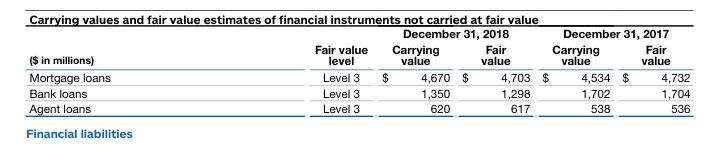table: (28, 28, 689, 115)
table column: (28, 28, 211, 115), (211, 28, 374, 115), (374, 28, 455, 115), (455, 28, 535, 115), (535, 28, 615, 115), (615, 28, 689, 115)
table column header: (28, 28, 689, 70)
table row: (28, 42, 689, 70), (28, 70, 689, 86), (28, 86, 689, 101), (28, 28, 689, 42), (28, 101, 689, 115)
table spanning cell: (28, 28, 211, 70), (211, 28, 374, 70), (374, 28, 535, 42), (535, 28, 689, 42)
